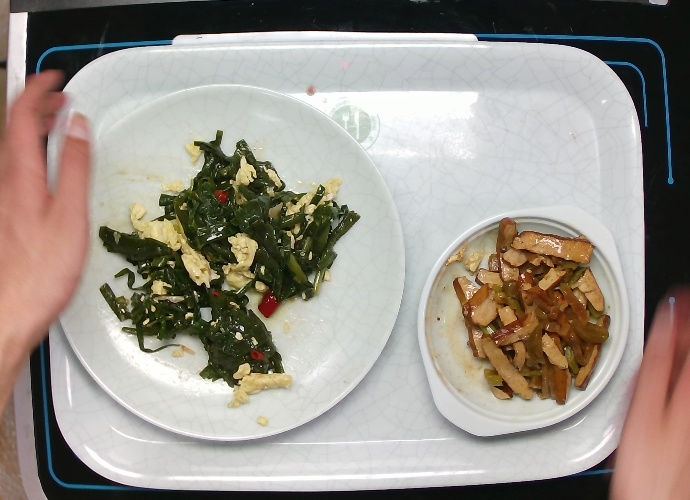JYsf-Da_Yuan_Pan: (66, 80, 409, 447)
JYsf-Shuang_Er_Pan: (409, 203, 637, 442)
